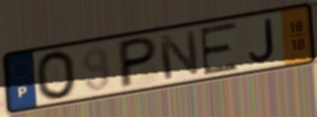9: (80, 46, 113, 93)
E: (198, 20, 241, 77)
J: (246, 17, 277, 65)
N: (155, 28, 202, 82)
O: (34, 49, 79, 102)
P: (118, 34, 160, 92)
